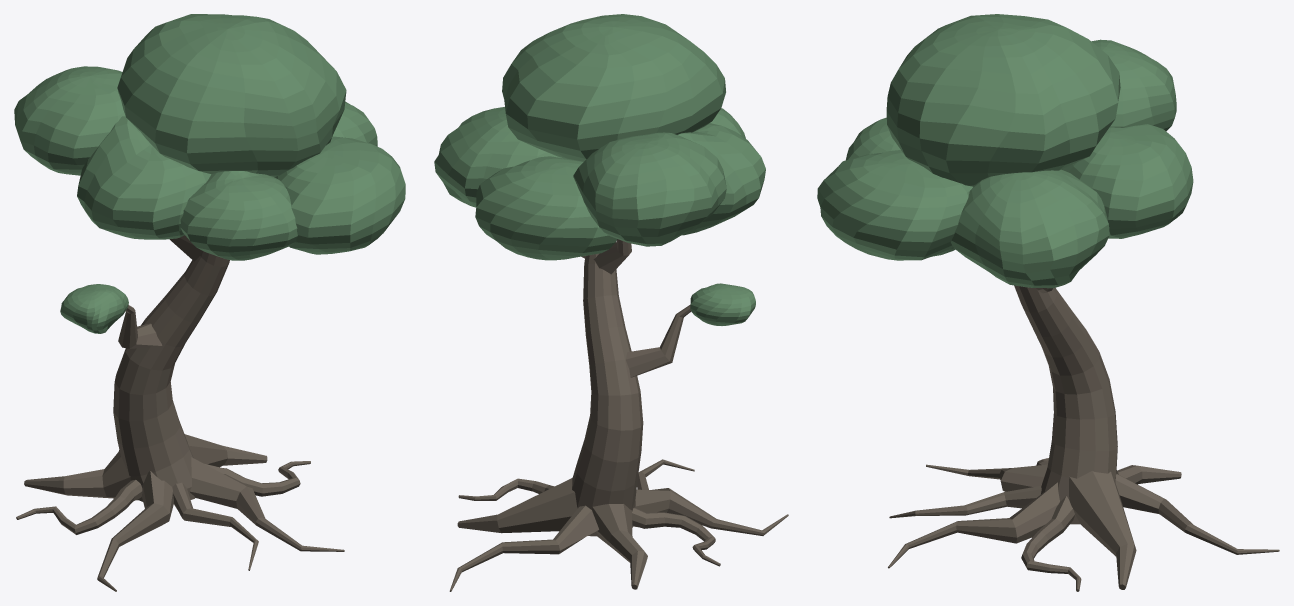
File: MediumTree.fbx
3 renders of one model, left to right at view 1: azimuth 30°, elevation 25°; view 2: azimuth 150°, elevation 25°; view 3: azimuth 270°, elevation 25°, orthographic. The views are drawn at different scales.
Visible parts, largest first — view 1: Tree_002; view 2: Tree_002; view 3: Tree_002.
Part boxes in pixels (x1,y1,x2,y2): Tree_002: (14,14,405,591); Tree_002: (434,14,788,591); Tree_002: (817,14,1279,591).
Bounding box in the file's own units: 464 × 710 × 576.
